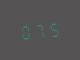five: (47, 19, 60, 38)
seven: (33, 20, 46, 39)
zero: (18, 21, 31, 40)
